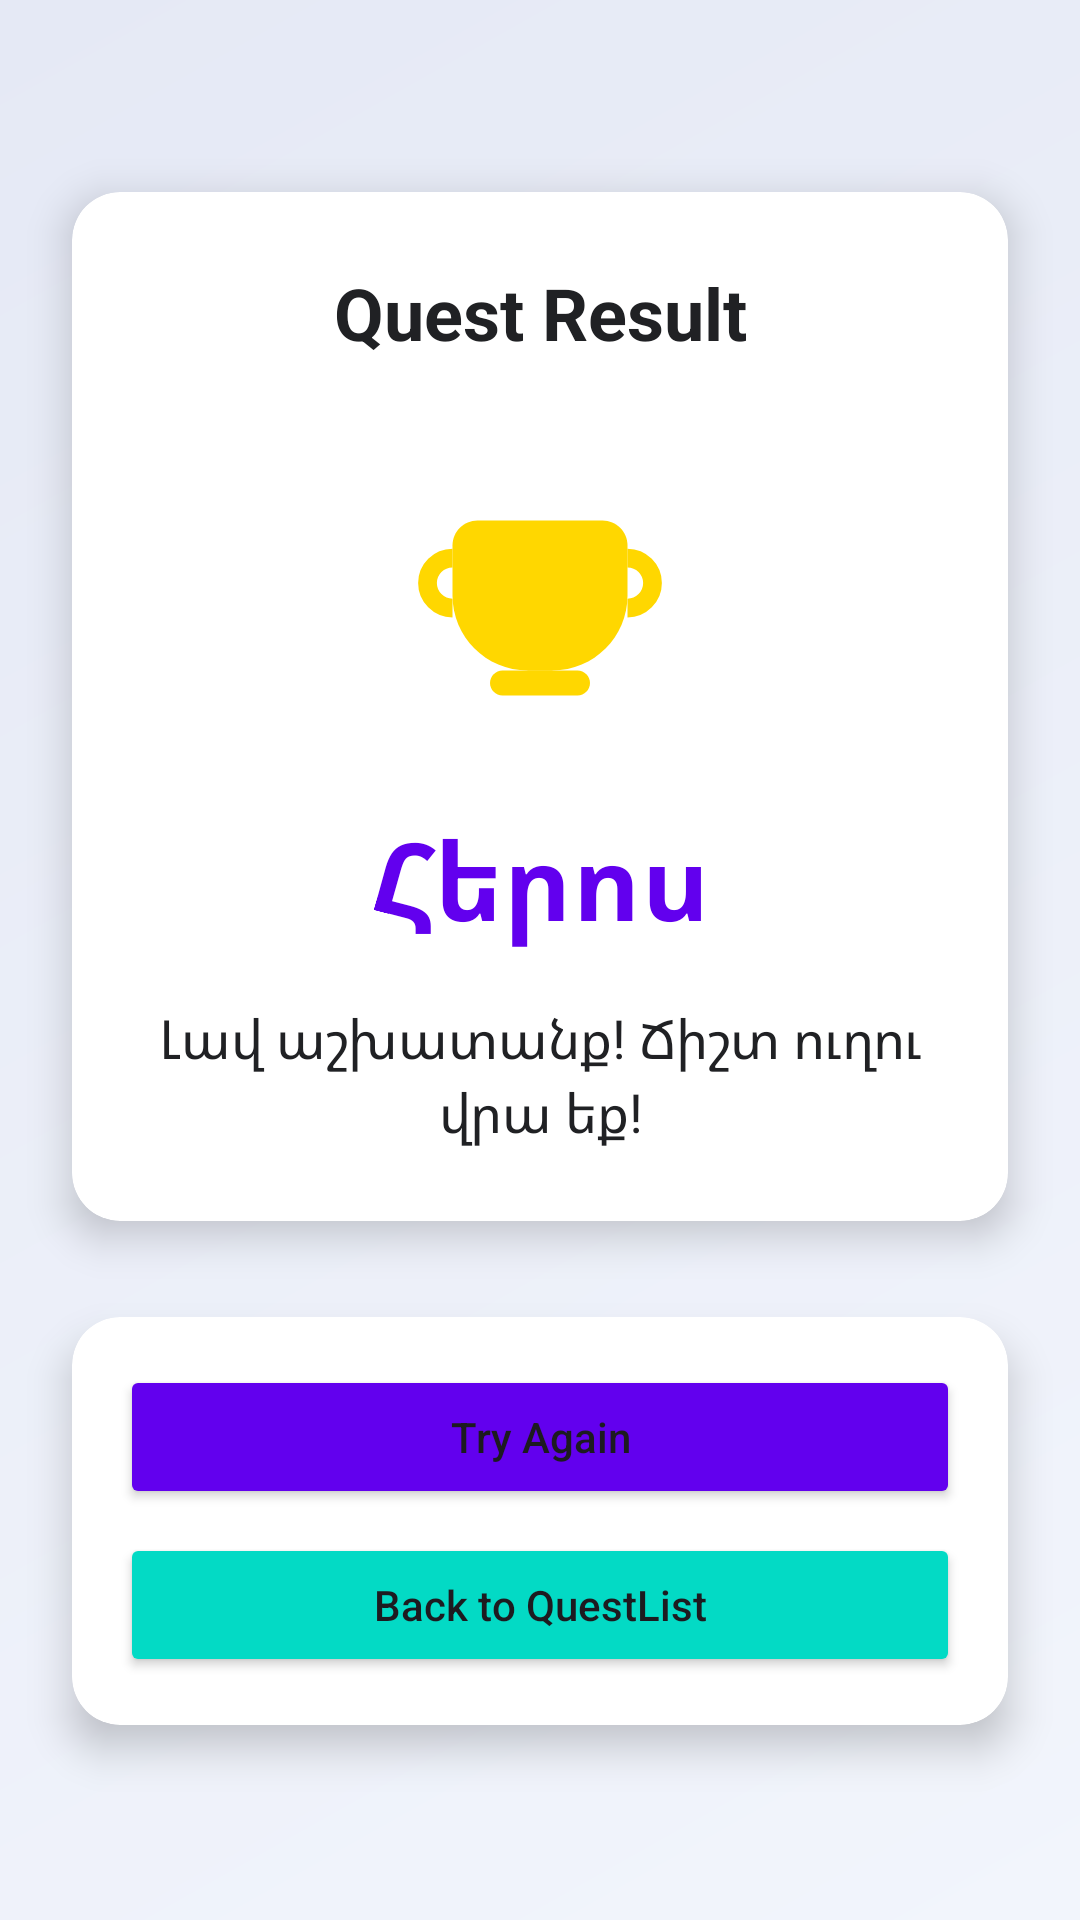

Icons on this 1080px×1920px Android screen, each with its box as detection(x1, y1, x2, y2):
trophy: detection(418, 520, 662, 696)
